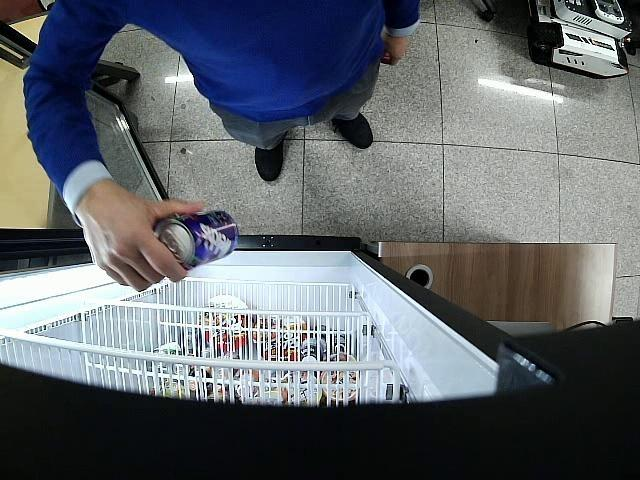14_welchsGrape: (154, 209, 240, 272)
